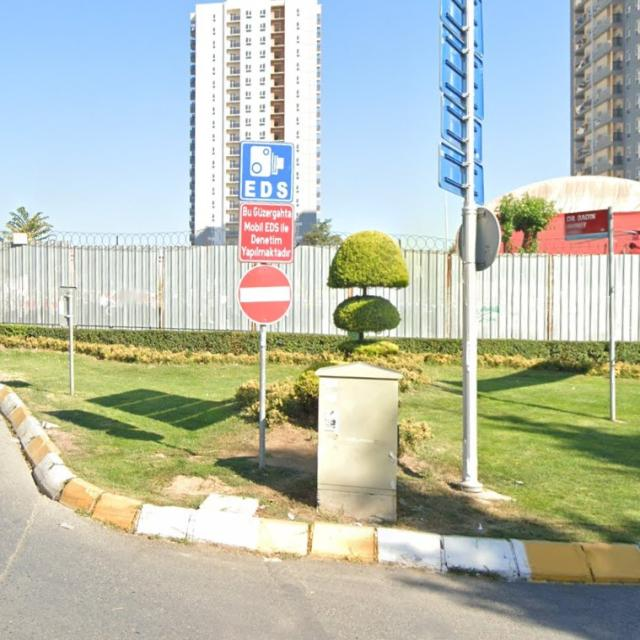girisyok: (238, 265, 292, 325)
